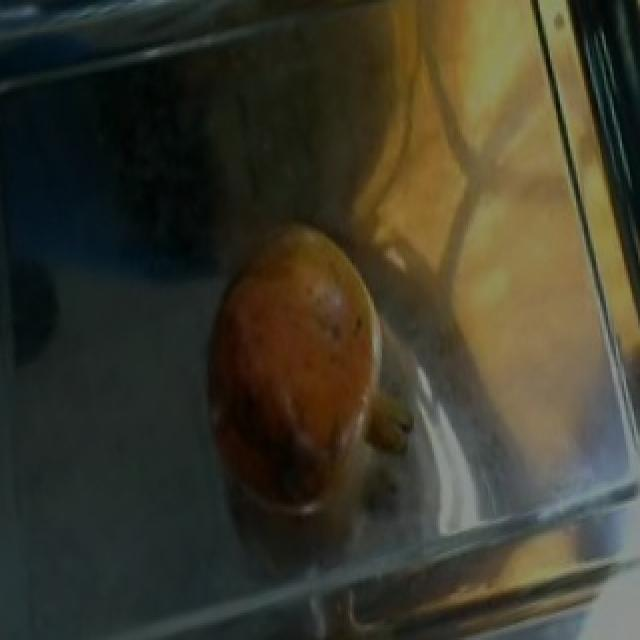fruit: (176, 198, 408, 504)
